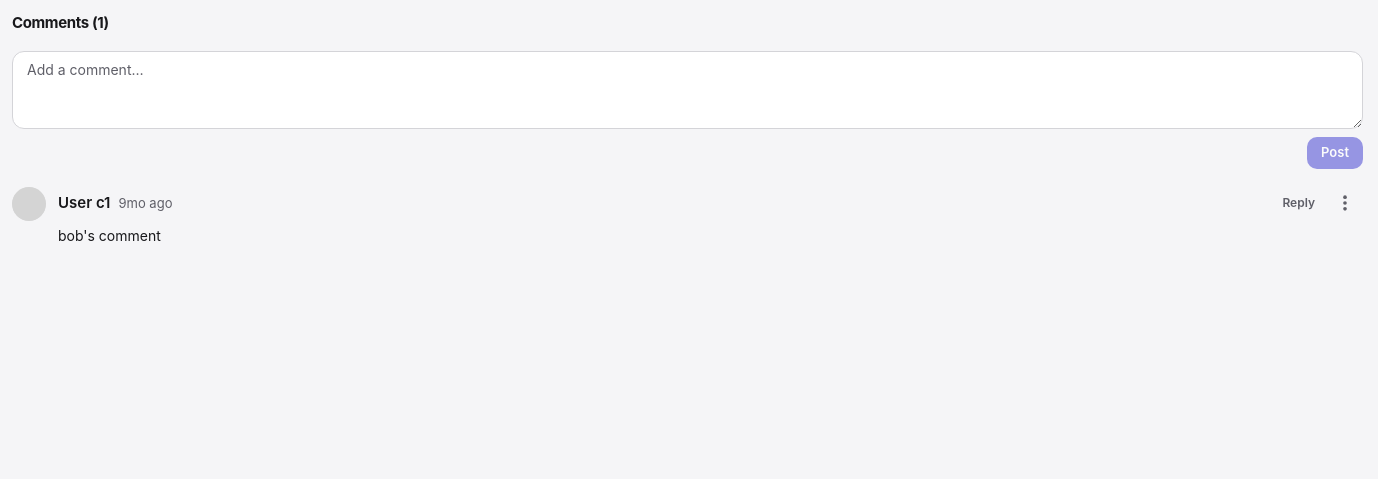
Scenario: CommentsSection contact actions under the instance messaging gate › offers both when messaging and E2EE are available
Click the button named "Comment actions".
click(1345, 202)  # box top-left (1327, 184), bottom-right (1363, 220)
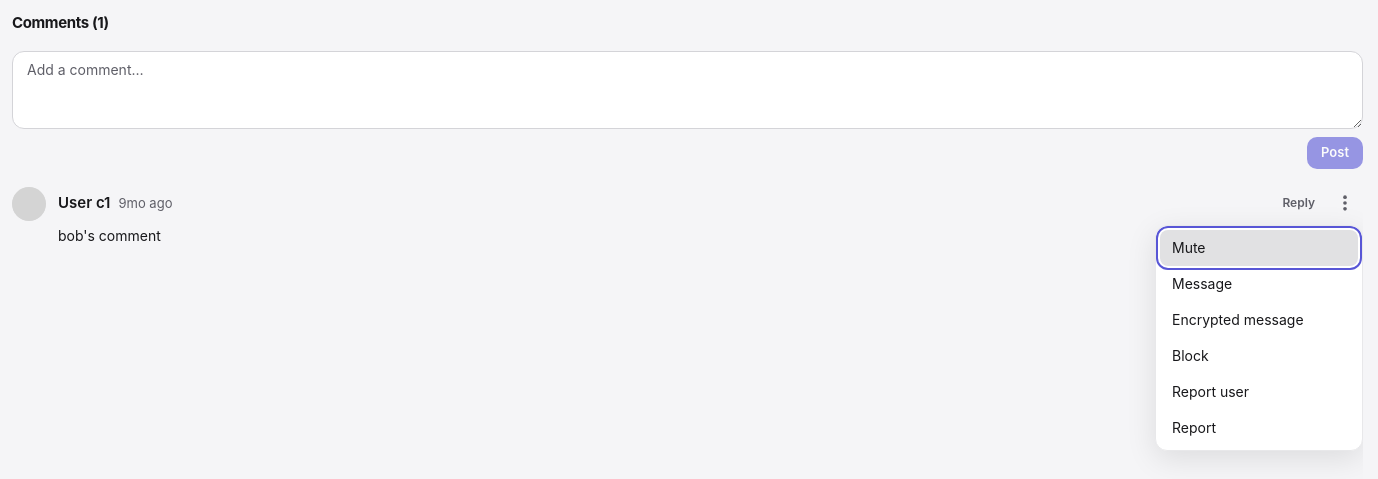
Expected: the menu item "Message" is shown, top-left (1160, 266), bottom-right (1358, 302)
Expected: the menu item "Encrypted message" is shown, top-left (1160, 302), bottom-right (1358, 338)
